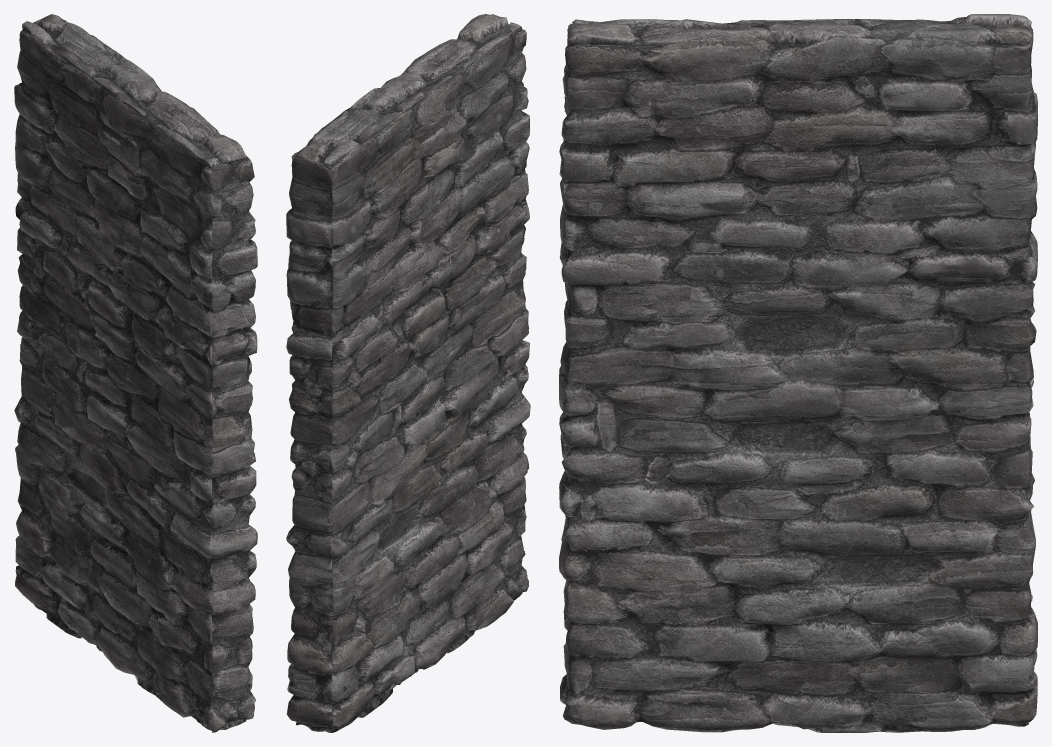
File: SM_MWall200_DS.FBX
3 renders of one model, left to right at view 1: azimuth 30°, elevation 25°; view 2: azimuth 150°, elevation 25°; view 3: azimuth 270°, elevation 25°, orthographic. The views are drawn at different scales.
Visible parts, largest first — view 1: SM_MWall200_DS_LOD0; view 2: SM_MWall200_DS_LOD0; view 3: SM_MWall200_DS_LOD0.
Part boxes in pixels (x1,y1,x2,y2): SM_MWall200_DS_LOD0: (14, 14, 257, 732); SM_MWall200_DS_LOD0: (286, 14, 530, 732); SM_MWall200_DS_LOD0: (559, 14, 1037, 732).
Size of what is drawn, in the model's own units: 35.02 by 346 by 215.
